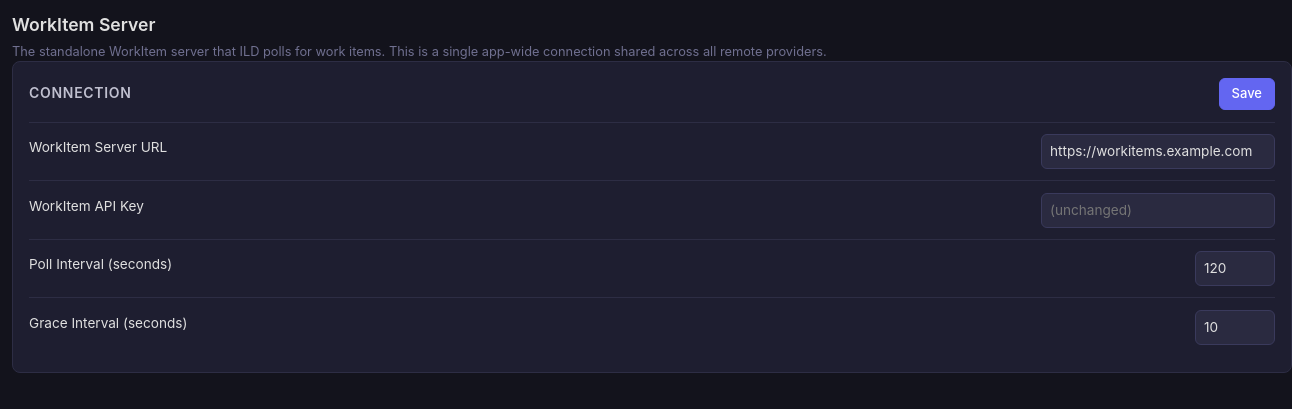
Test: WorkItemServerSettings saving › on failure (not an Error) shows the error, keeps the entered values and re-enables Save
The width and height of the screenshot is (1292, 409).
Replace the text in the field labelled "WorkItem Server URL" with "https://typed.example.com" at (1158, 152), box [1041,134,1275,169]
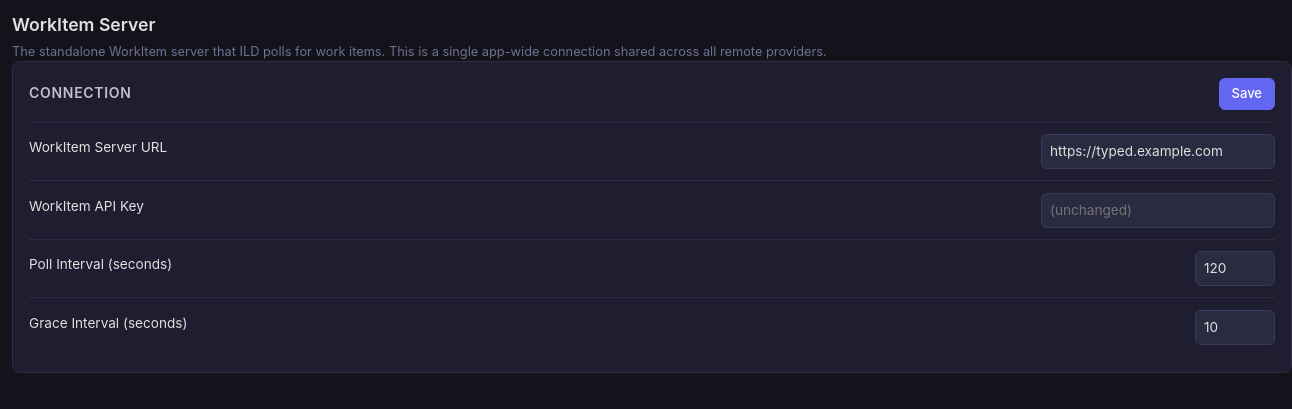
Type "typed-key" into the password field labelled "WorkItem API Key" at (1158, 210), box [1041,192,1275,228]
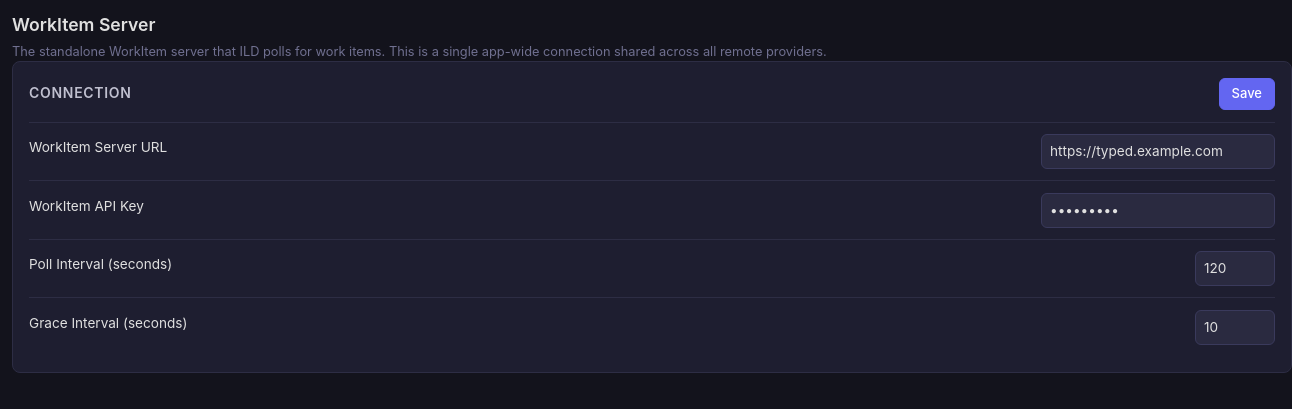
Replace the text in the number field labelled "Poll Interval (seconds)" with "33" at (1235, 269), box [1195,251,1275,286]
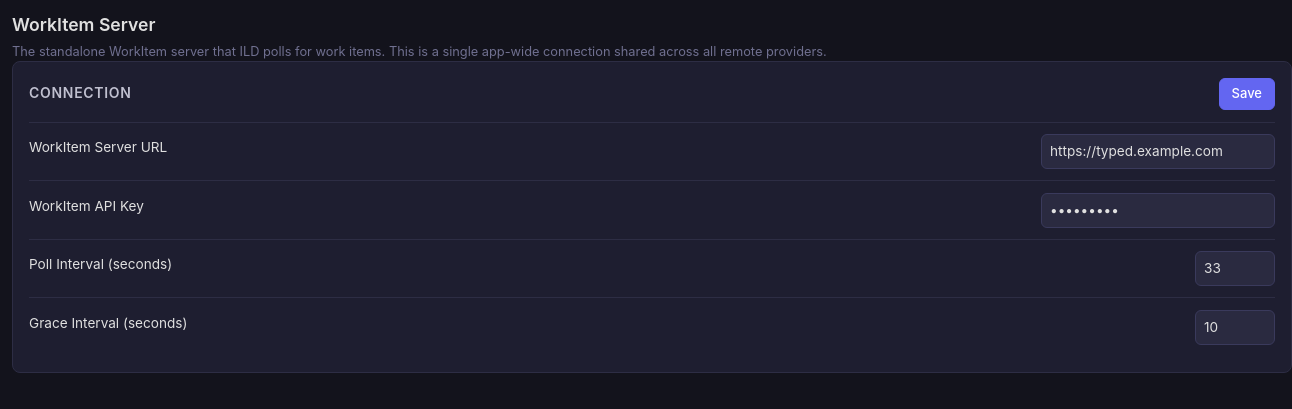
Replace the text in the number field labelled "Grace Interval (seconds)" with "4" at (1235, 327), box [1195,310,1275,345]
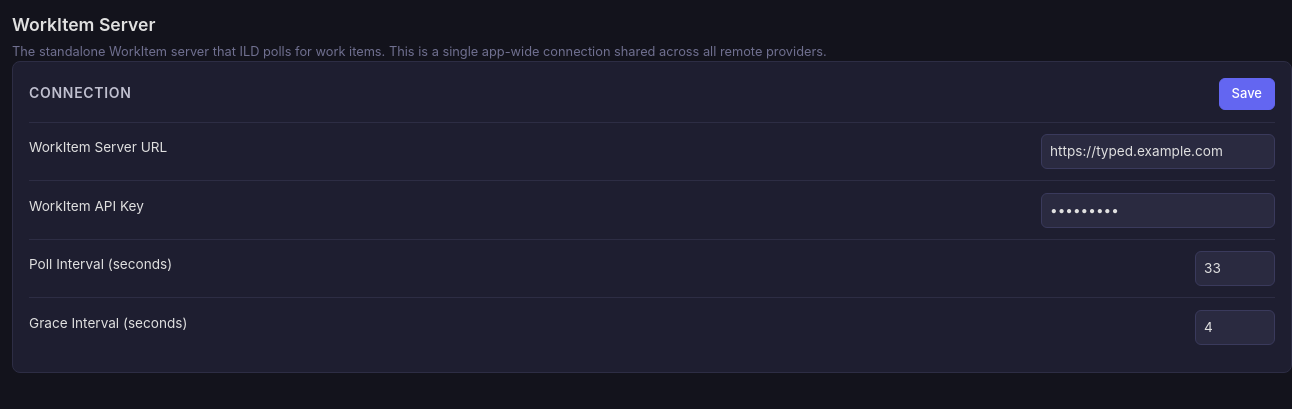
Click the button "Save" at (1247, 94), box [1219,78,1275,110]
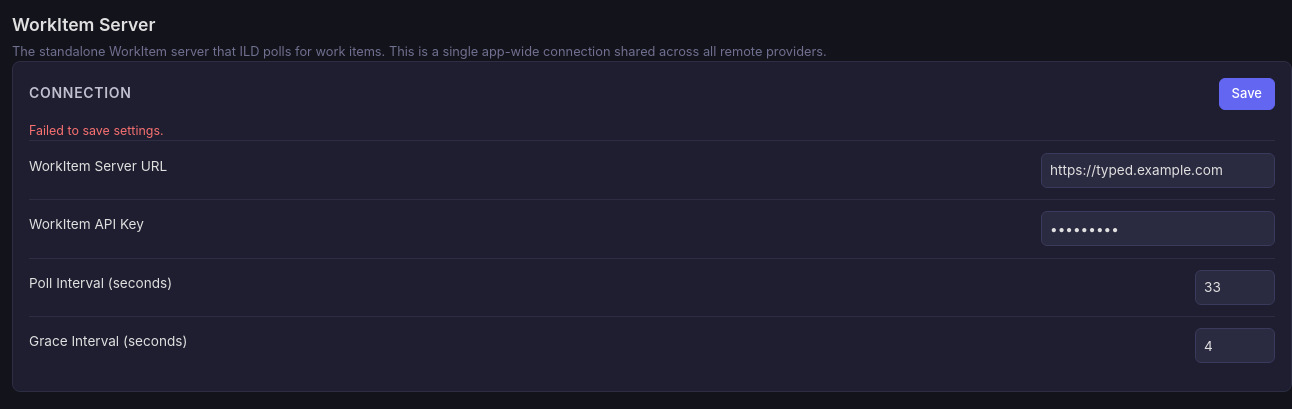
expect the text "Failed to save settings." is shown: met, box [29,123,164,138]
